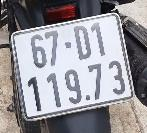1: (26, 75, 44, 112), (46, 72, 63, 108), (92, 20, 108, 58)
3: (107, 58, 127, 95)
6: (29, 33, 47, 67)
7: (87, 62, 103, 101), (45, 28, 60, 67)
9: (64, 68, 84, 104)
D: (72, 24, 94, 62)
